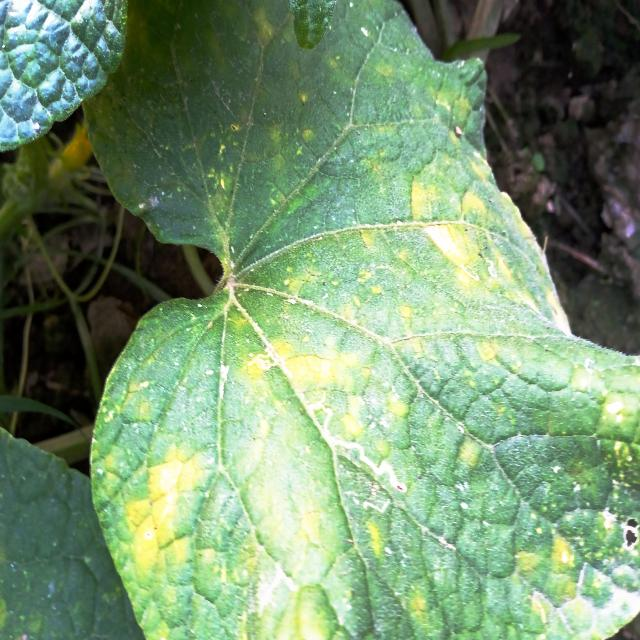Downy-Mildew: (84, 0, 639, 639)
